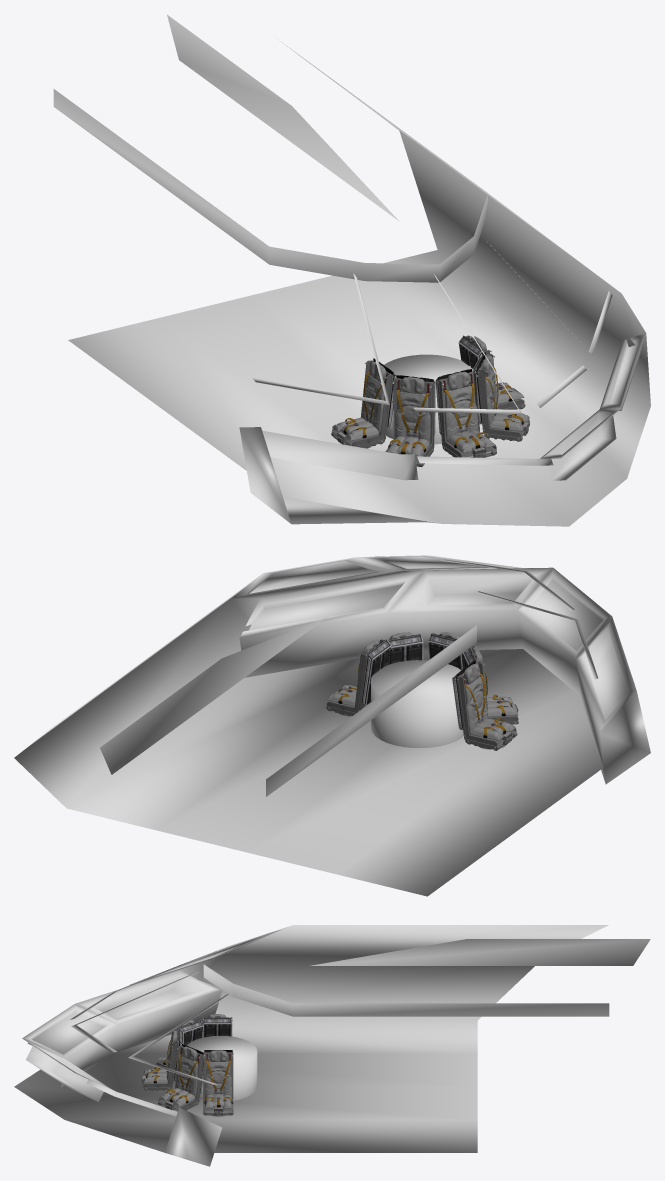
File: коабль.glb
The picture shows the model from 3 angles, top to bottom: view 1: azimuth 30°, elevation 25°; view 2: azimuth 150°, elevation 25°; view 3: azimuth 270°, elevation 25°; orthographic projection. The views are drawn at different scales.
Parts seen in each view (by area): view 1: ChairMain.002; view 2: ChairMain.002; view 3: ChairMain.002.
Boxes of the visible parts, box(x1,y1,x2,y2) form: ChairMain.002: box(53, 14, 650, 526); ChairMain.002: box(14, 555, 650, 896); ChairMain.002: box(14, 925, 650, 1166).
Bounding box in the file's own units: 50.93 × 28.3 × 97.55.
Materials: 6 (4 with a texture image).
